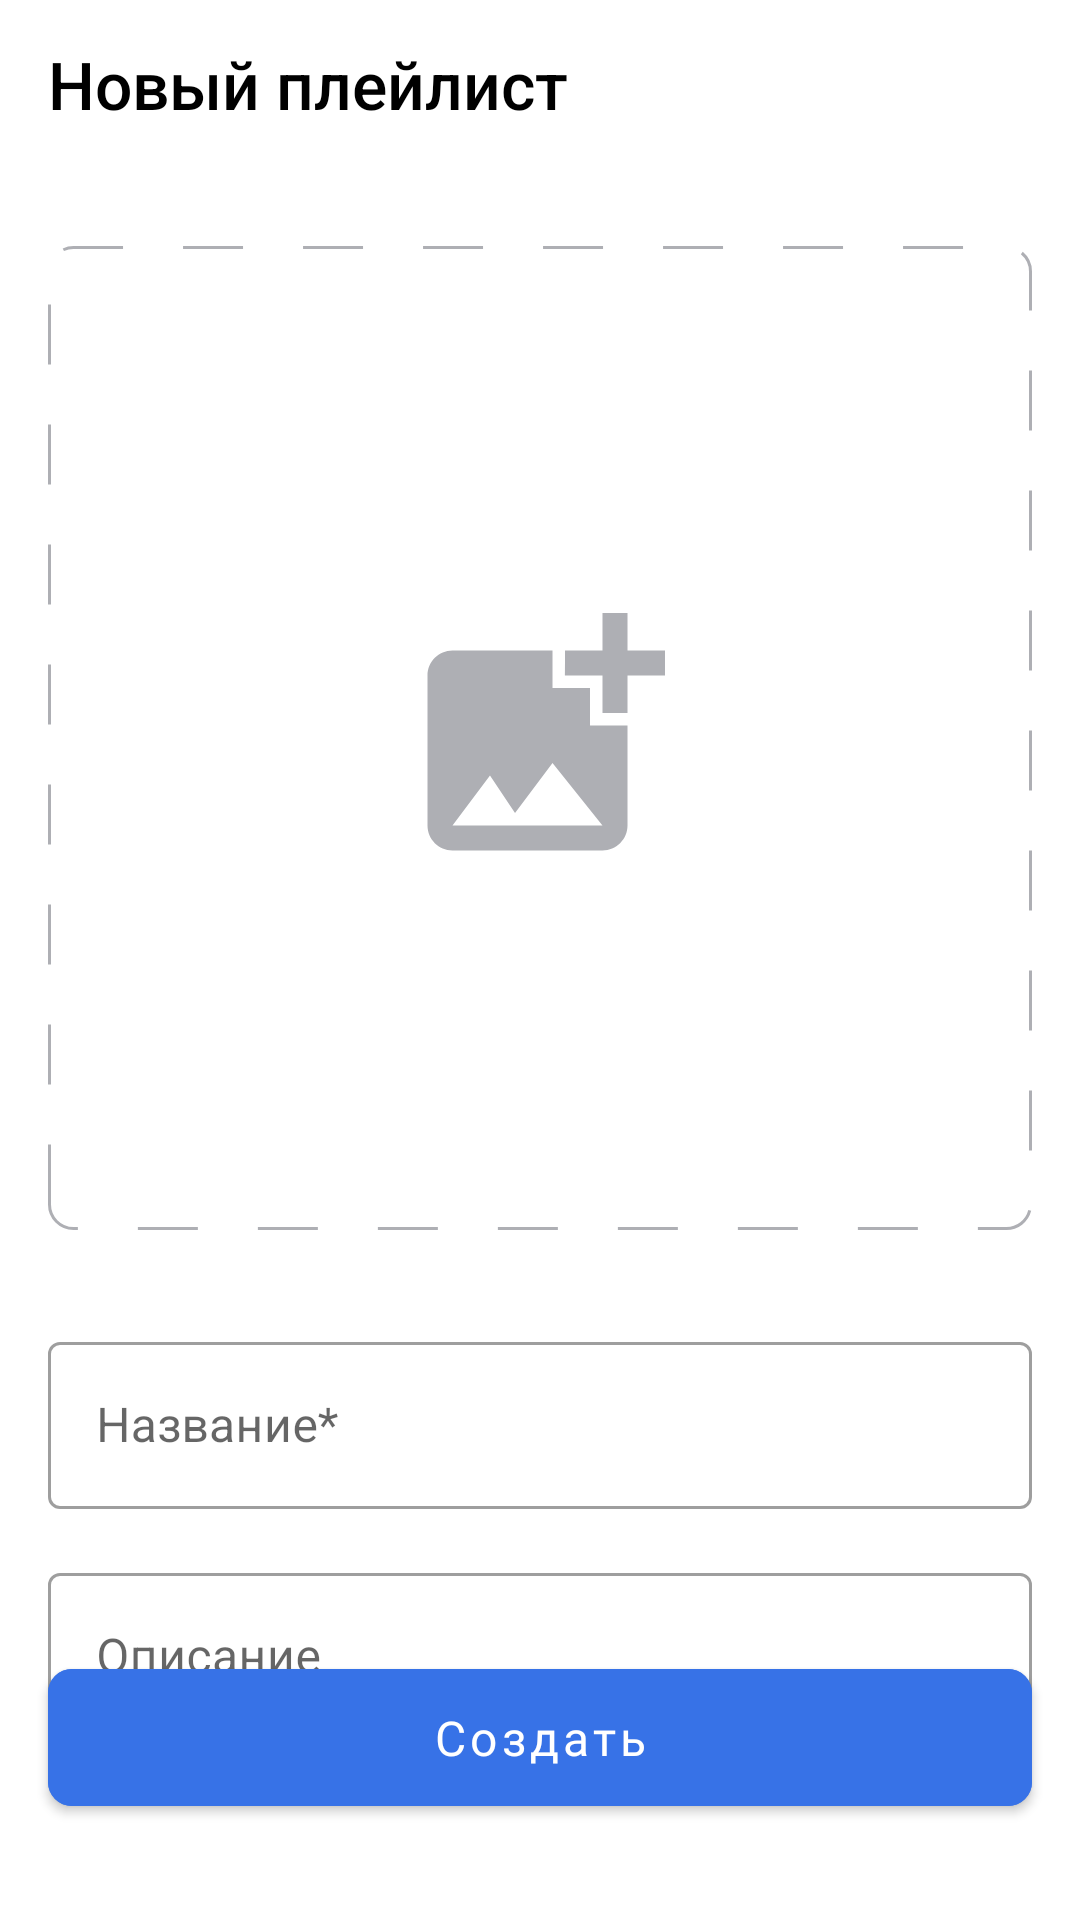

Point at icon controls on the screen. Image size 1080px×1920px, points as (x=x, y=y).
add photo: (x=546, y=732)
